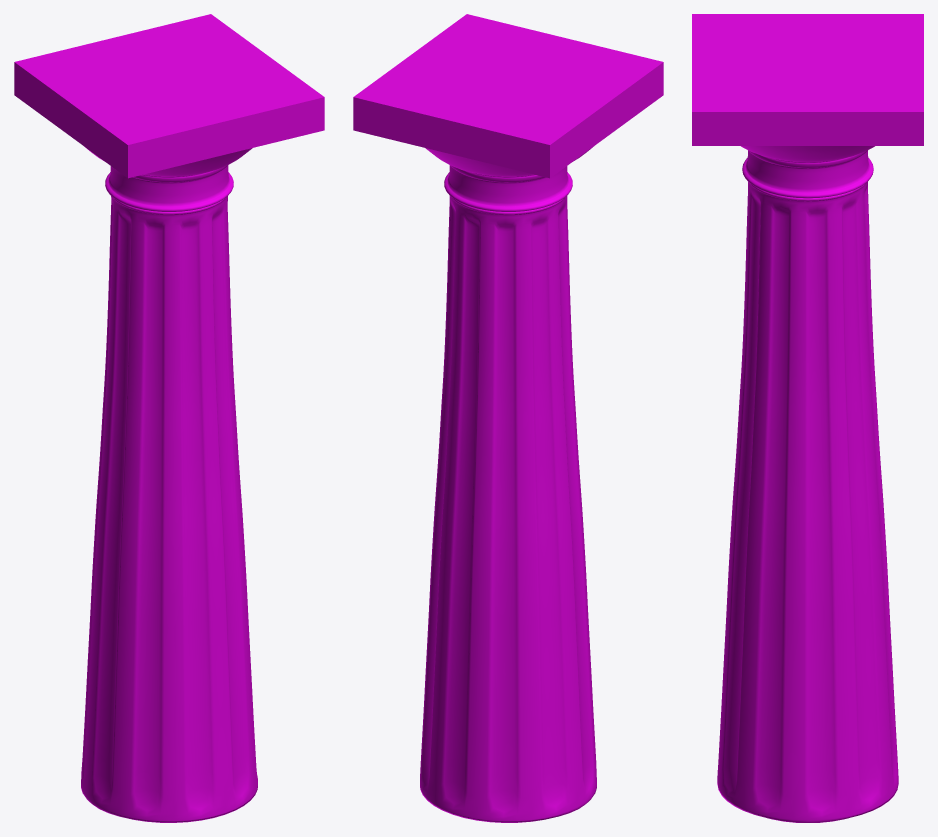
The model's file is Doric_Column_Lower_Div.fbx.
3 views of the same model, side by side, from view 1: azimuth 30°, elevation 25°; view 2: azimuth 150°, elevation 25°; view 3: azimuth 270°, elevation 25° (orthographic). The views are drawn at different scales.
Visible parts, largest first — view 1: Doric_Column_Lower_Div; view 2: Doric_Column_Lower_Div; view 3: Doric_Column_Lower_Div.
Boxes of the visible parts, x1=… form: Doric_Column_Lower_Div: x1=14, y1=14, x2=324, y2=822; Doric_Column_Lower_Div: x1=353, y1=14, x2=663, y2=822; Doric_Column_Lower_Div: x1=692, y1=14, x2=923, y2=822.
Bounding box in the file's own units: 490 × 1684 × 490.
